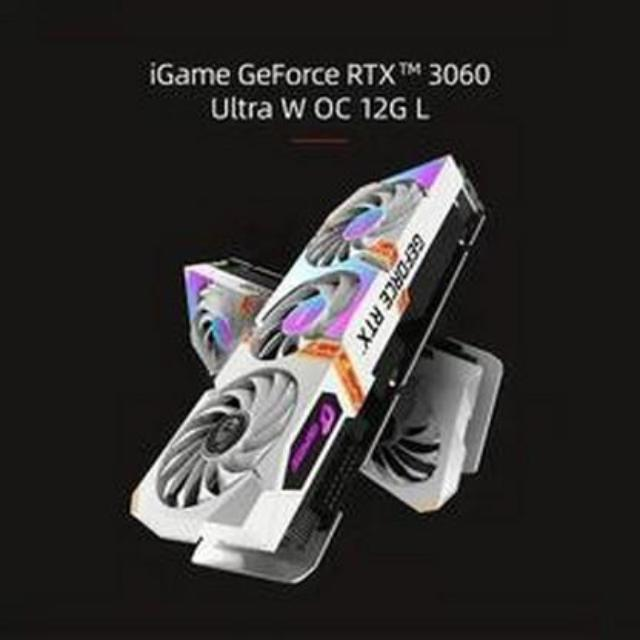GPU: (140, 158, 502, 580)
